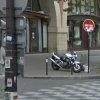Motorcycle: (39, 42, 88, 77)
